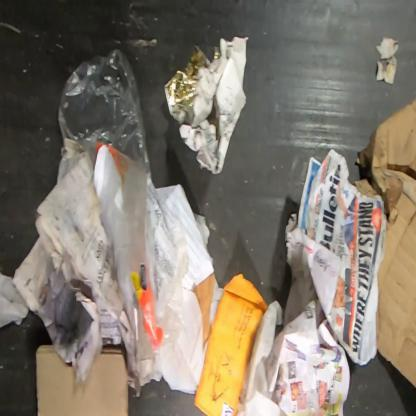cardboard: (353, 98, 415, 415), (35, 343, 130, 415)
soft_plastic: (58, 46, 190, 358)
